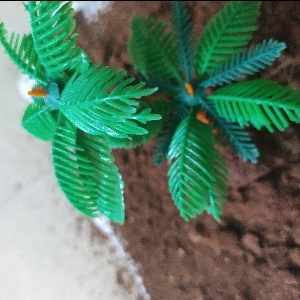plant: (1, 1, 286, 207)
